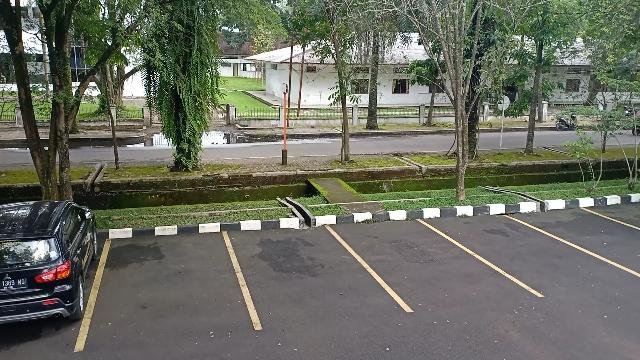empty: (98, 228, 242, 328), (241, 216, 367, 330), (368, 212, 487, 314), (481, 212, 579, 302)
occupied: (0, 226, 100, 348)
